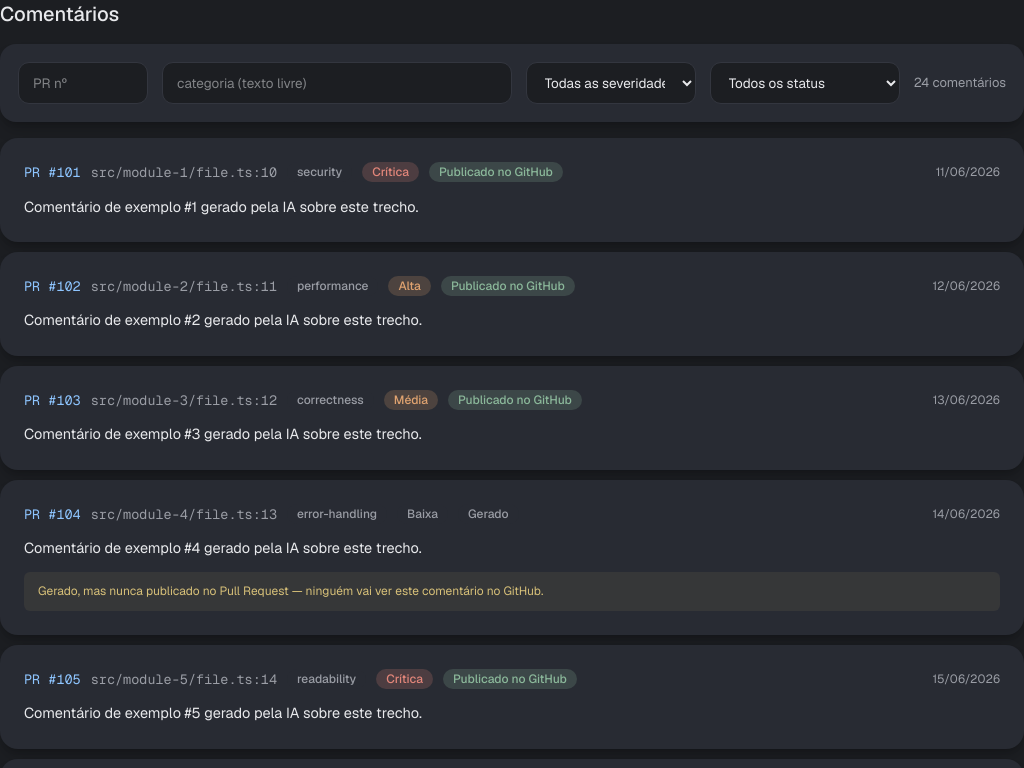
Test: CommentsPage › filters by category as free text (substring, not exact match) and re-fetches
Expected: the text "24 comentários" is shown, [914,73,1006,93]
Type "sec" into the field named "Filtrar por categoria" at (337, 83), box [162,62,512,104]
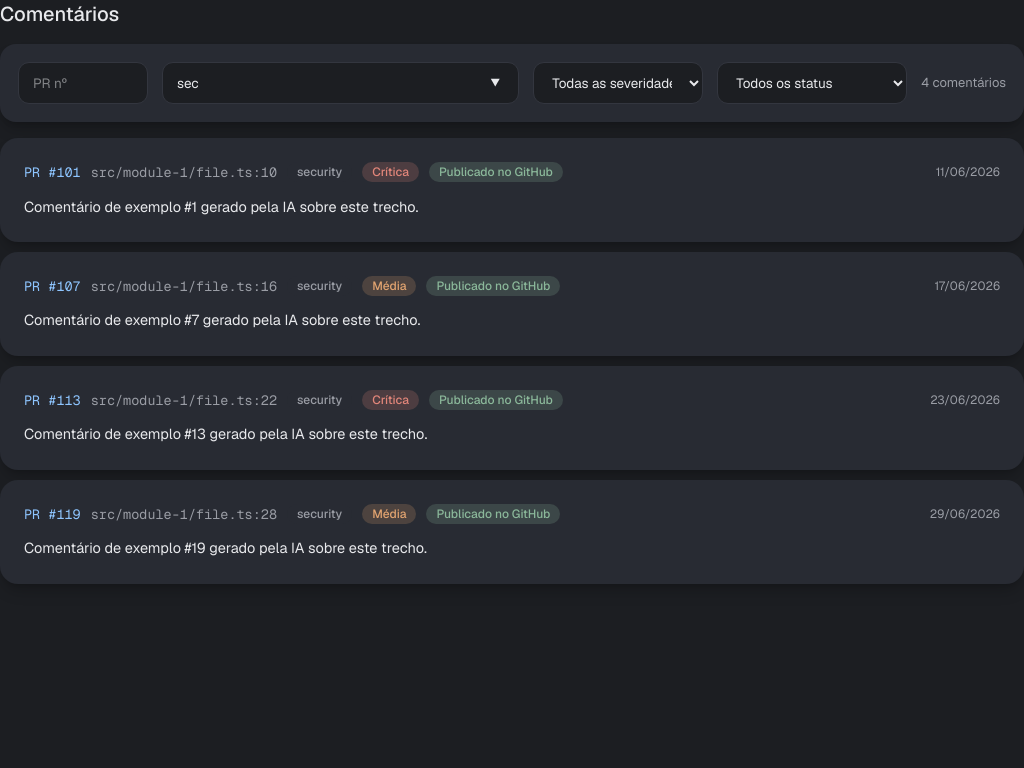
Expected: the text "4 comentários" is shown, [921,73,1006,93]
Expected: the text "security" is shown 4 times, [287,162,352,182]; [287,276,352,296]; [287,390,352,410]; [287,504,352,524]
